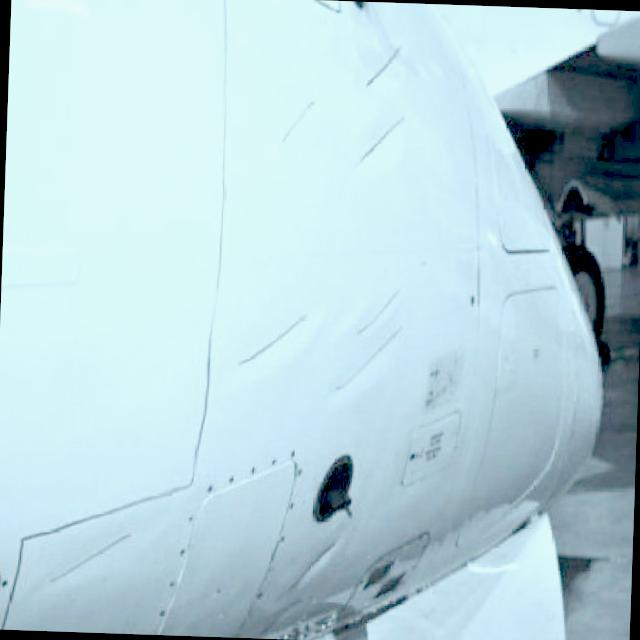dent: (40, 514, 150, 590), (336, 280, 400, 390), (232, 303, 310, 380), (276, 534, 338, 606), (354, 112, 406, 168), (276, 92, 309, 150), (359, 44, 404, 82)
